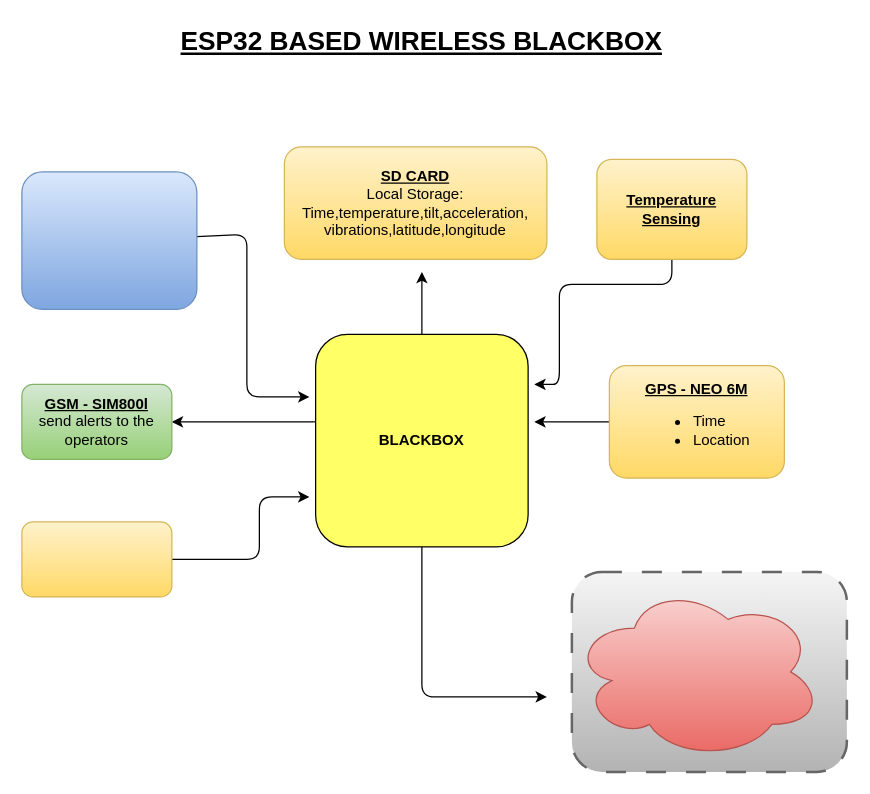
This 870x794 diagram has some shape labels left out. Each missing label, with the centre of its shape:
MPU 6050 acceleration tilt collision: (109,240)
SW-420 Vibartion: (96,559)
ThingSpeak IoT Cloud Storage Remote monitoring: (696,671)
